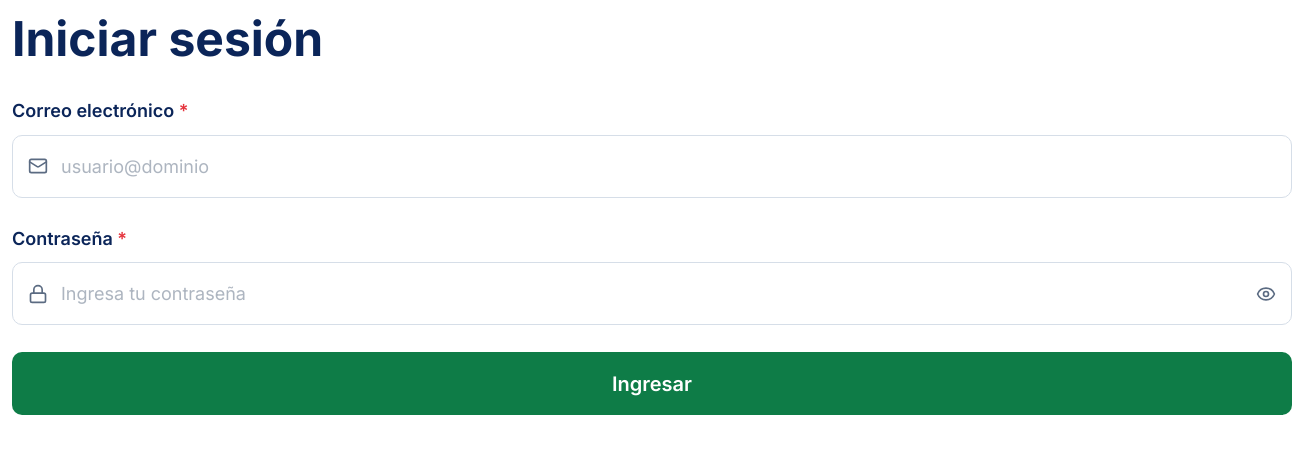
Login › credenciales inválidas → mensaje literal y contraseña limpia
Type "admin@medapark.co" into the field labelled "Correo electrónico *".
click(652, 166); type("admin@medapark.co")  # box top-left (12, 135), bottom-right (1292, 198)
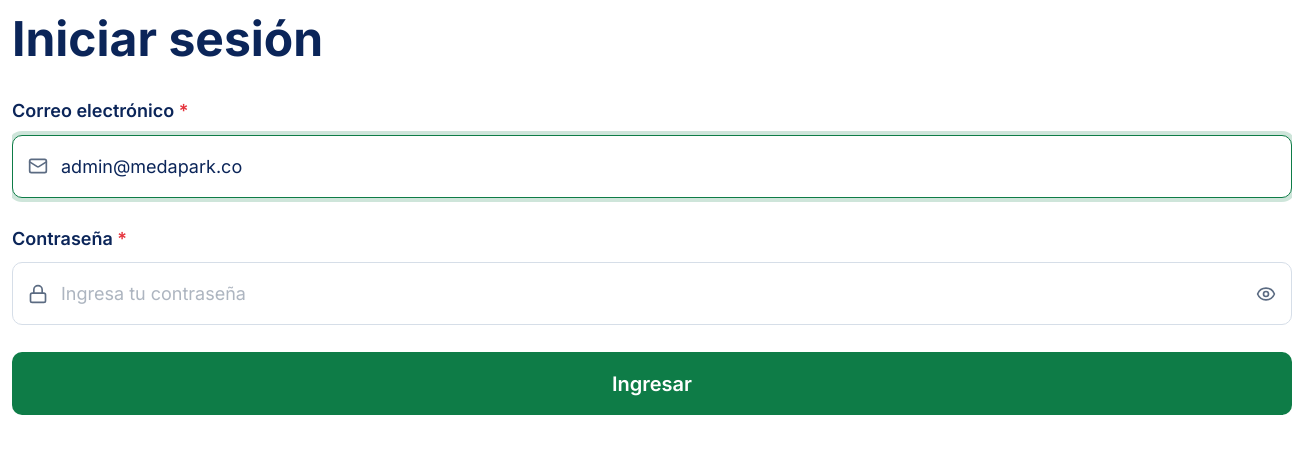
Type "mala" into the password field labelled "Contraseña *".
click(652, 294); type("mala")  # box top-left (12, 262), bottom-right (1292, 325)
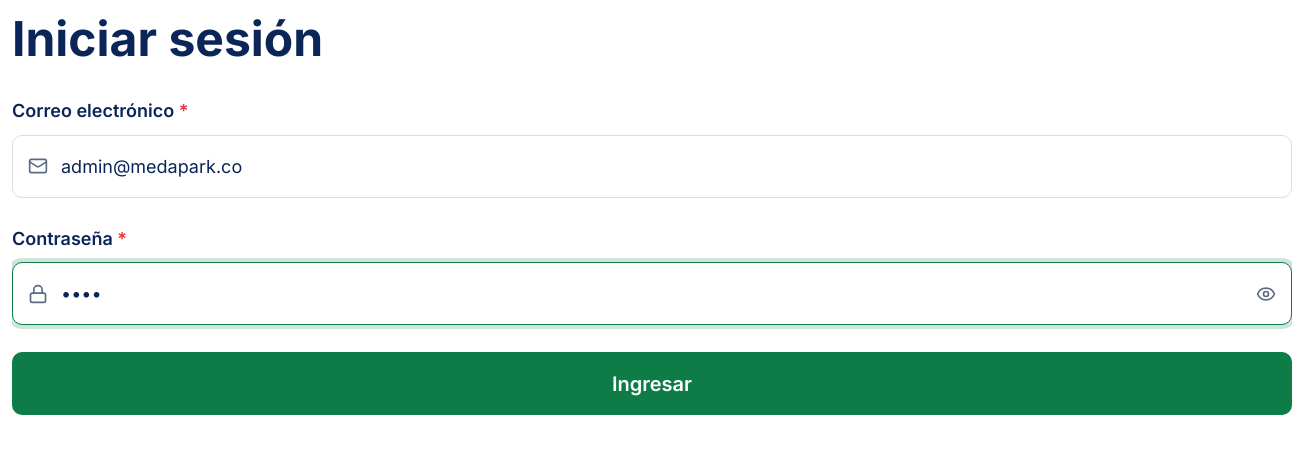
Click the button "Ingresar".
click(652, 384)  # box top-left (12, 352), bottom-right (1292, 415)
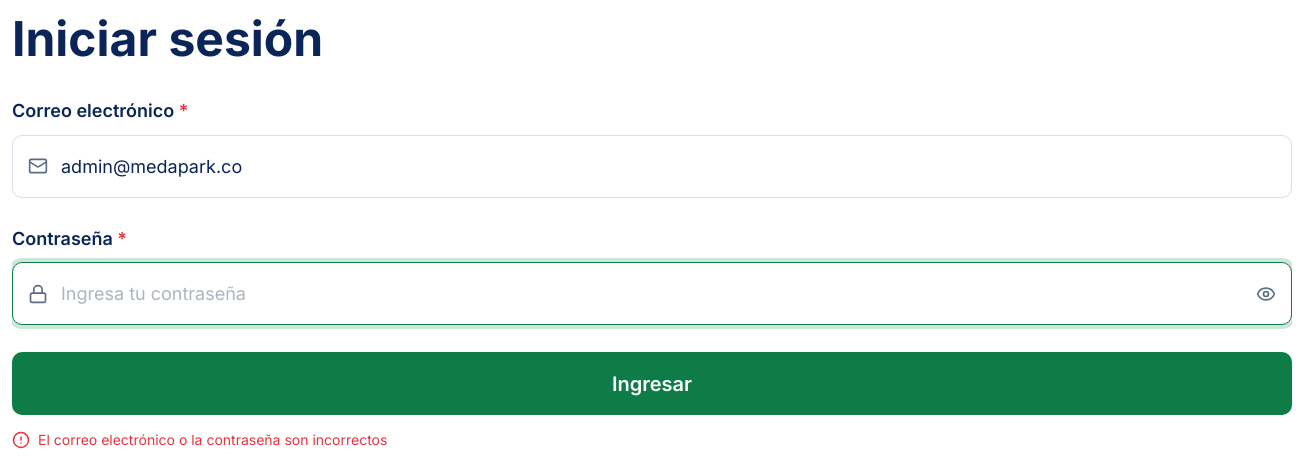
Result: the text "El correo electrónico o la contraseña son incorrectos" is shown at top-left (38, 430), bottom-right (387, 450)
Result: the password field labelled "Contraseña *" is empty at top-left (12, 262), bottom-right (1292, 325)
